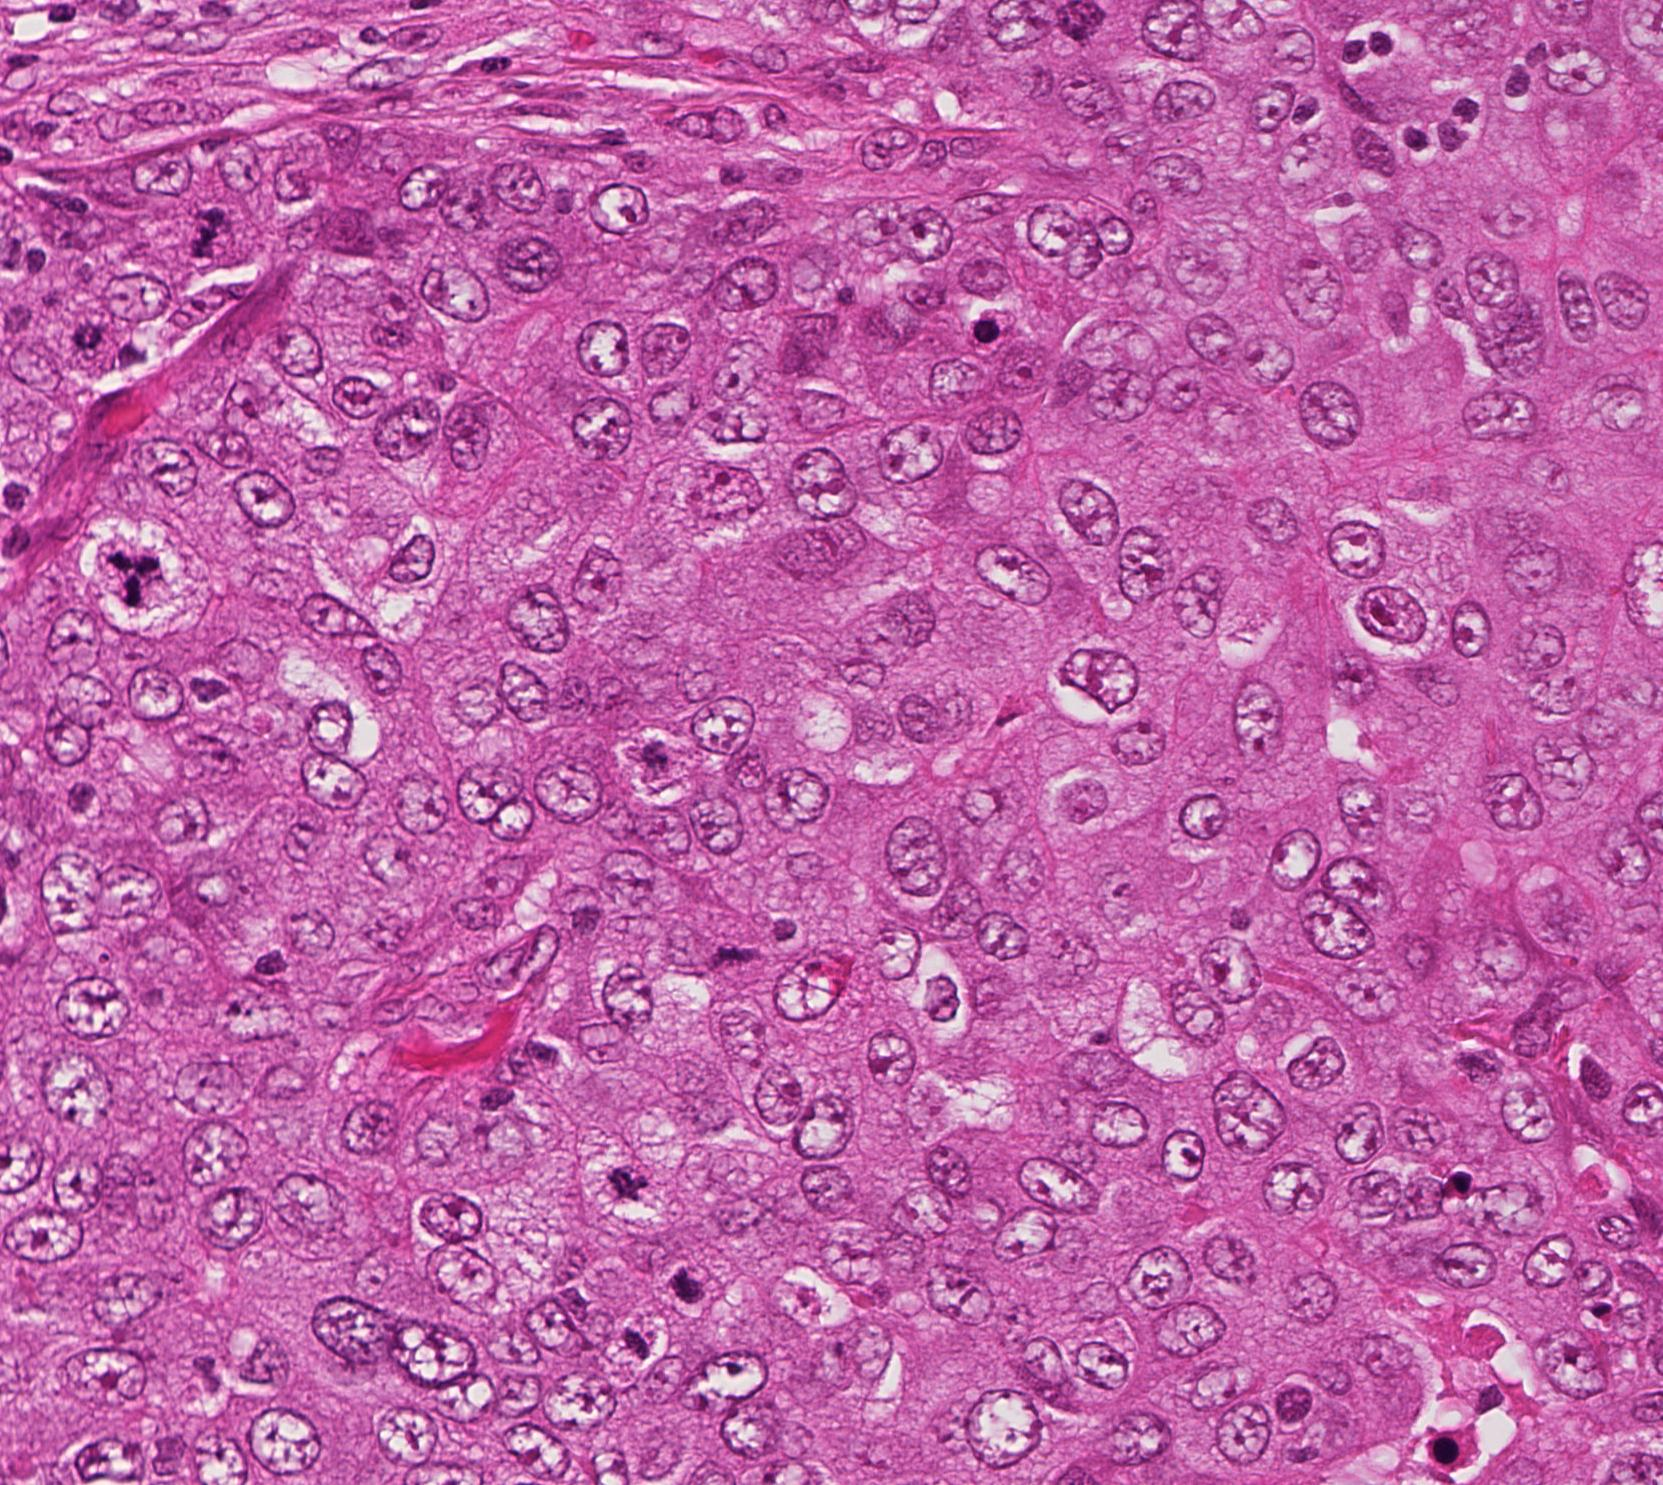mitosis: (619, 725, 680, 786), (592, 1154, 652, 1214), (652, 1248, 713, 1309), (612, 1310, 672, 1370), (181, 194, 239, 254), (65, 305, 123, 366), (704, 925, 764, 983), (95, 539, 153, 599)
